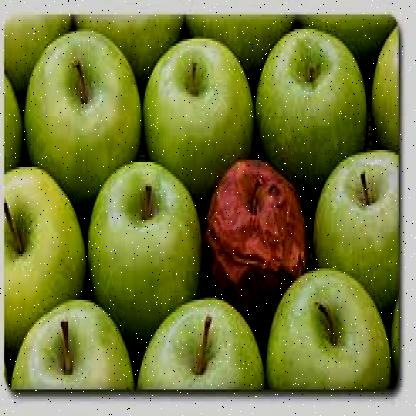apple: (27, 39, 135, 169), (92, 172, 190, 304), (258, 38, 364, 160), (145, 292, 260, 394), (150, 43, 244, 167), (272, 283, 384, 385), (310, 158, 398, 276), (5, 172, 80, 302), (12, 312, 126, 390)
damaged_apple: (211, 155, 304, 297)
